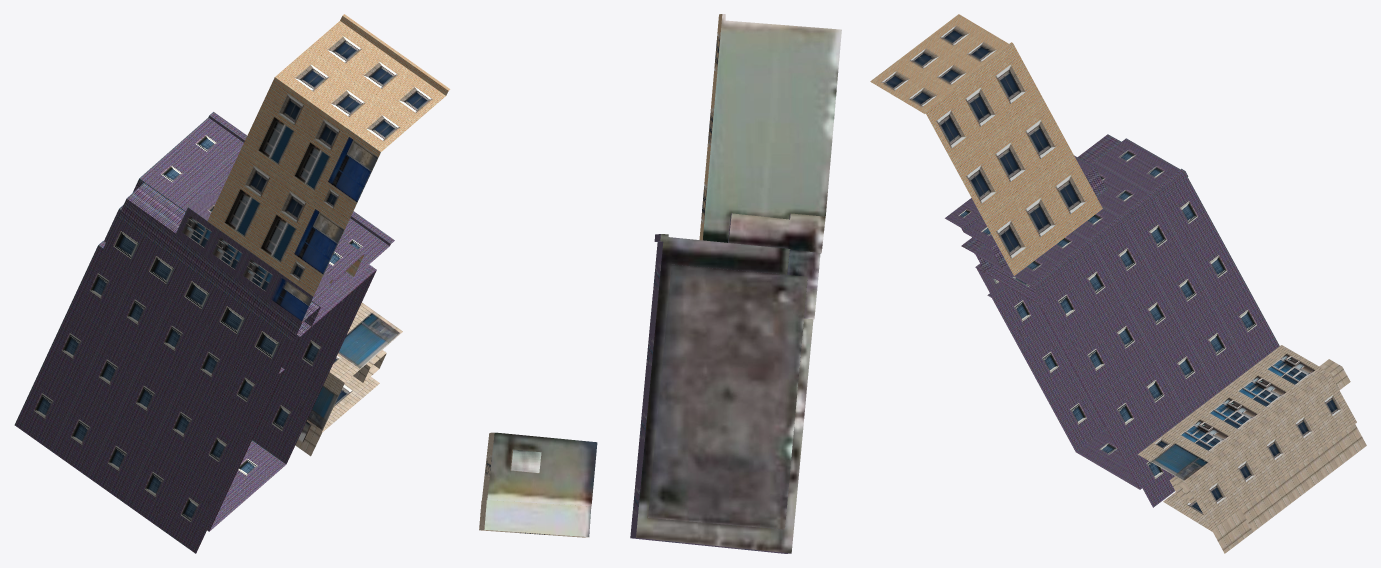
3 views of the same model, side by side, from view 1: azimuth 30°, elevation 25°; view 2: azimuth 150°, elevation 25°; view 3: azimuth 270°, elevation 25° (orthographic). The views are drawn at different scales.
Size of the model in its own units: 32.19 by 46.1 by 44.2.
29 materials, 29 textured.
